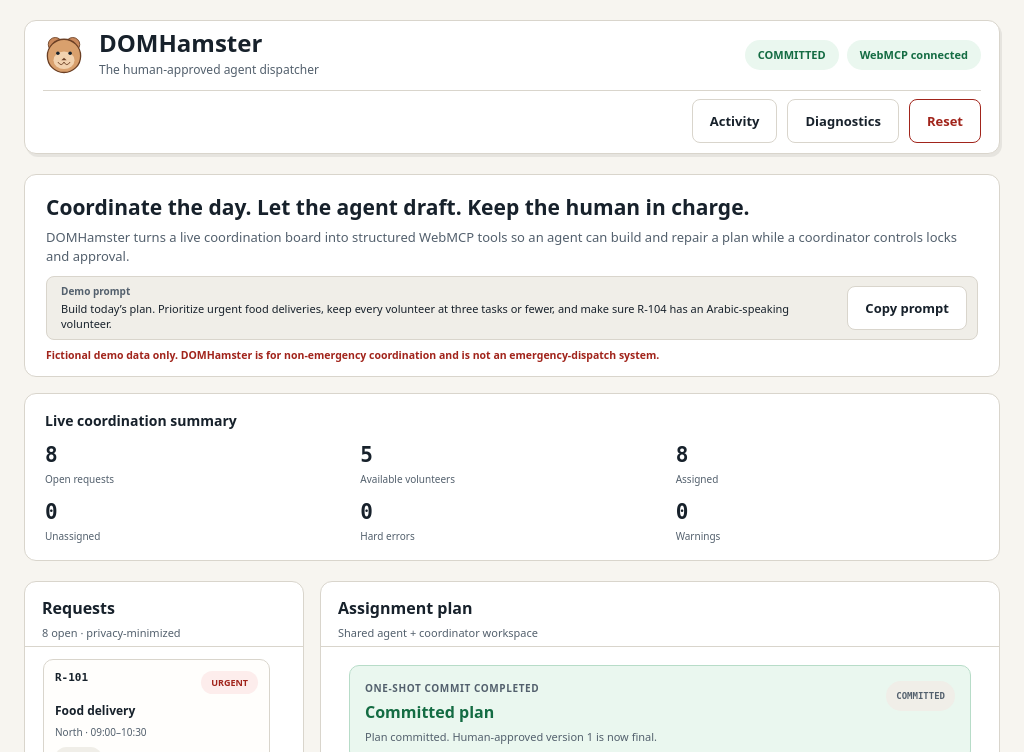
it: store-connected approval and recovery workflow › requires a least-destructive confirmation before reset and restores READY
Step 1. Click the button "Reset" → (945, 121), box [909,99,981,143]
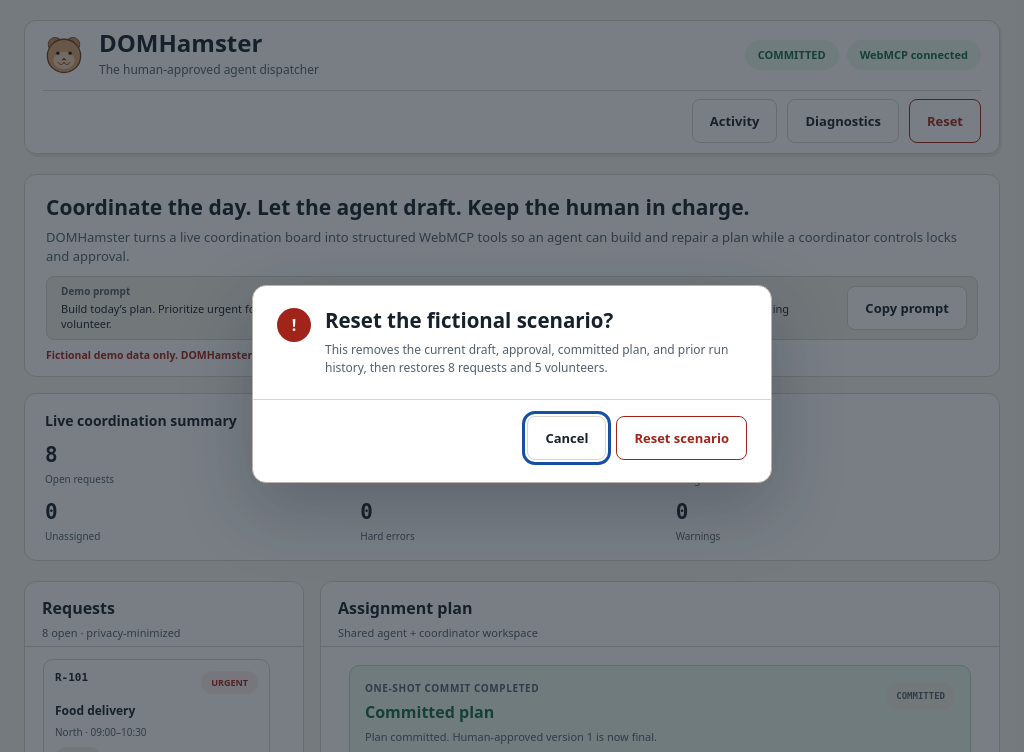
Step 2. Click the button "Cancel" → (567, 438), box [527,416,606,460]
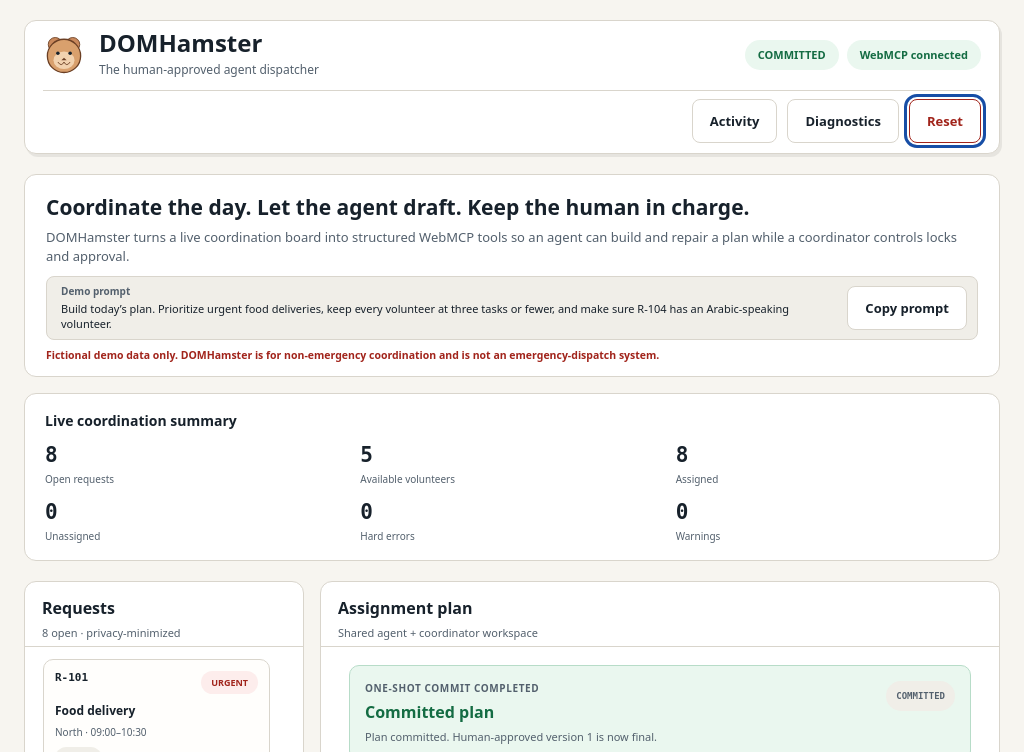
Expected: the text "COMMITTED" next to "WebMCP connected" is shown, [758,47,826,62]
Step 3. Click the button "Reset" → (945, 121), box [909,99,981,143]
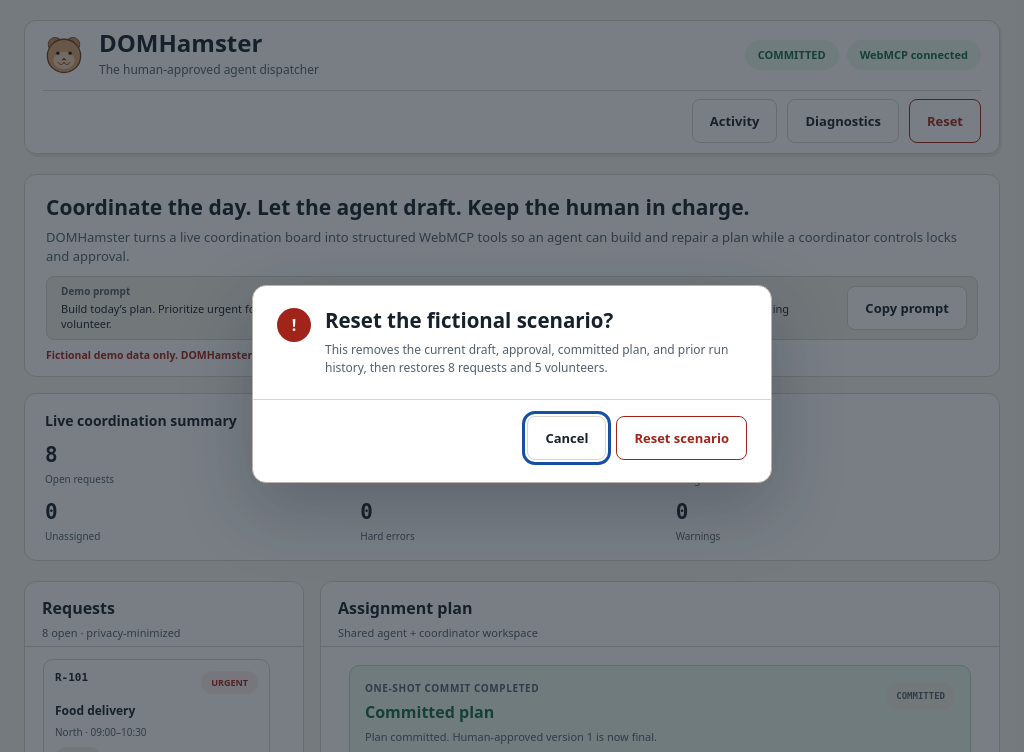
Step 4. Click the button "Reset scenario" → (682, 438), box [616,416,747,460]
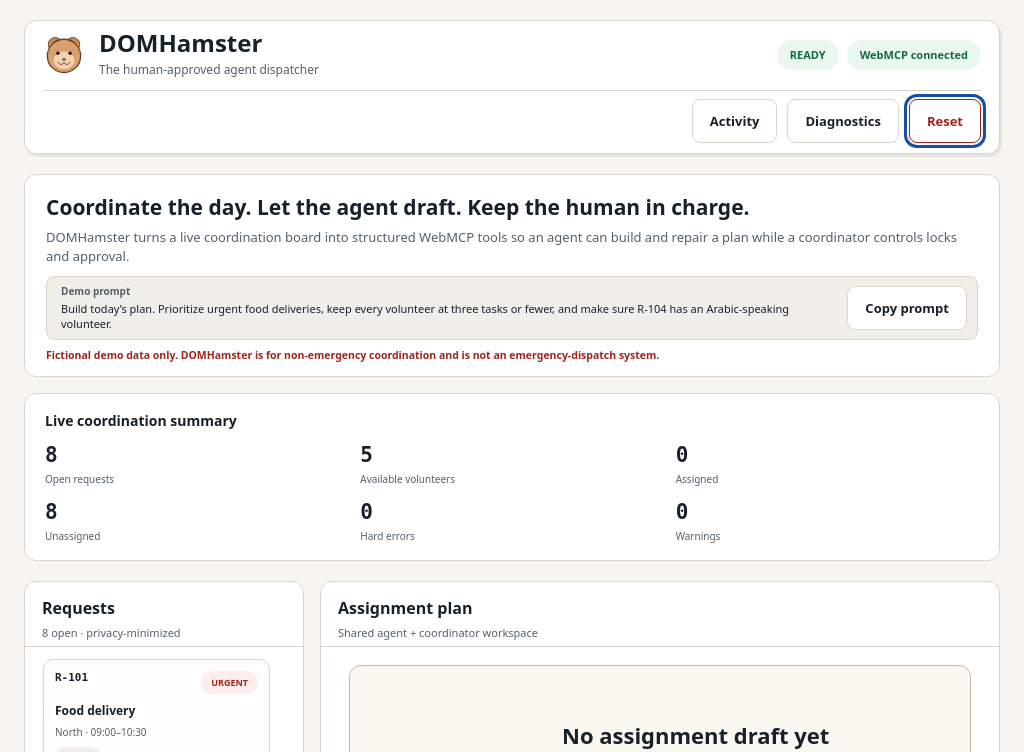
Now the heading "No assignment draft yet" is shown, box [562,720,829,750]
Now the text "READY" is shown, box [777,40,839,70]
